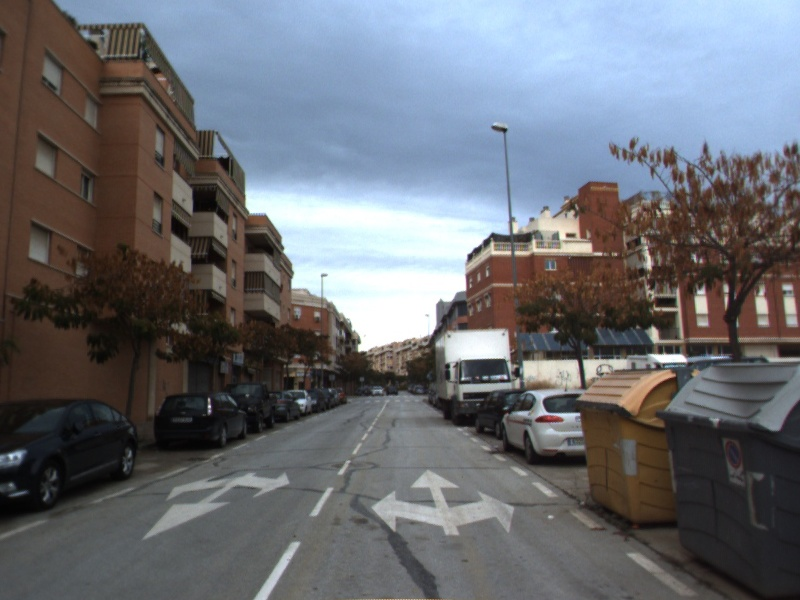STRAIGHT_LEFT_RIGHT: (369, 465, 516, 538)
